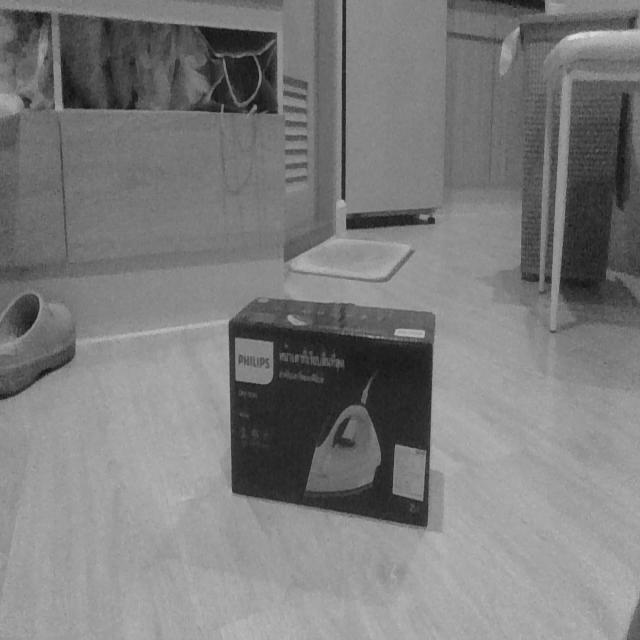IRON: (226, 293, 438, 532)
